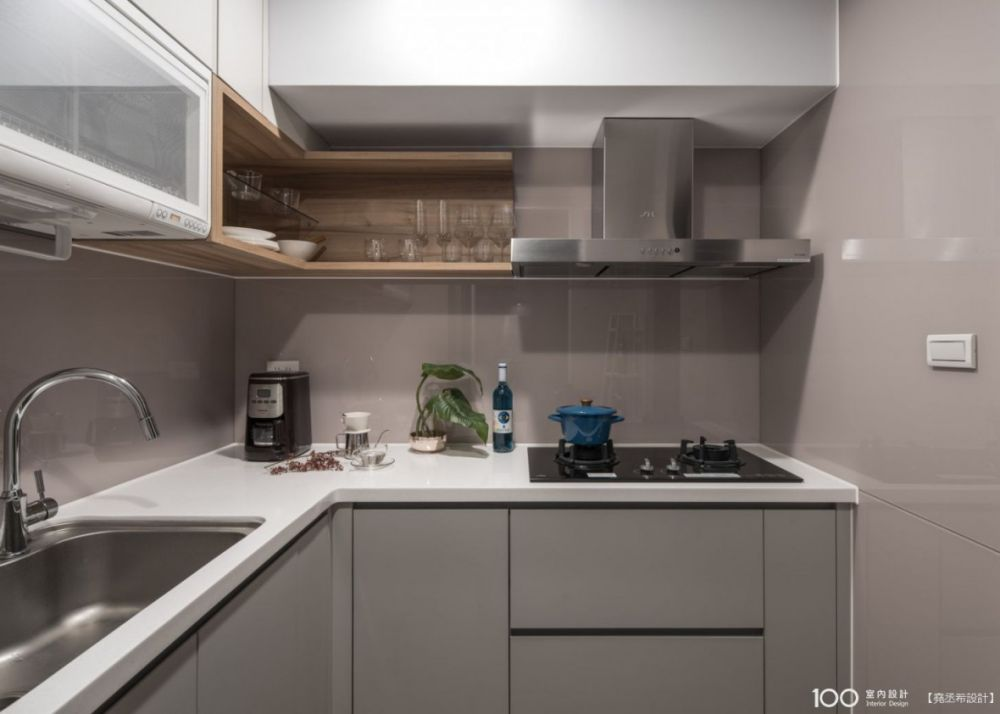gasoven: (523, 438, 804, 487)
